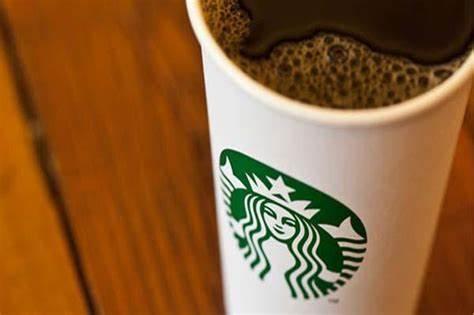starbucks Originale: (210, 136, 376, 307)
